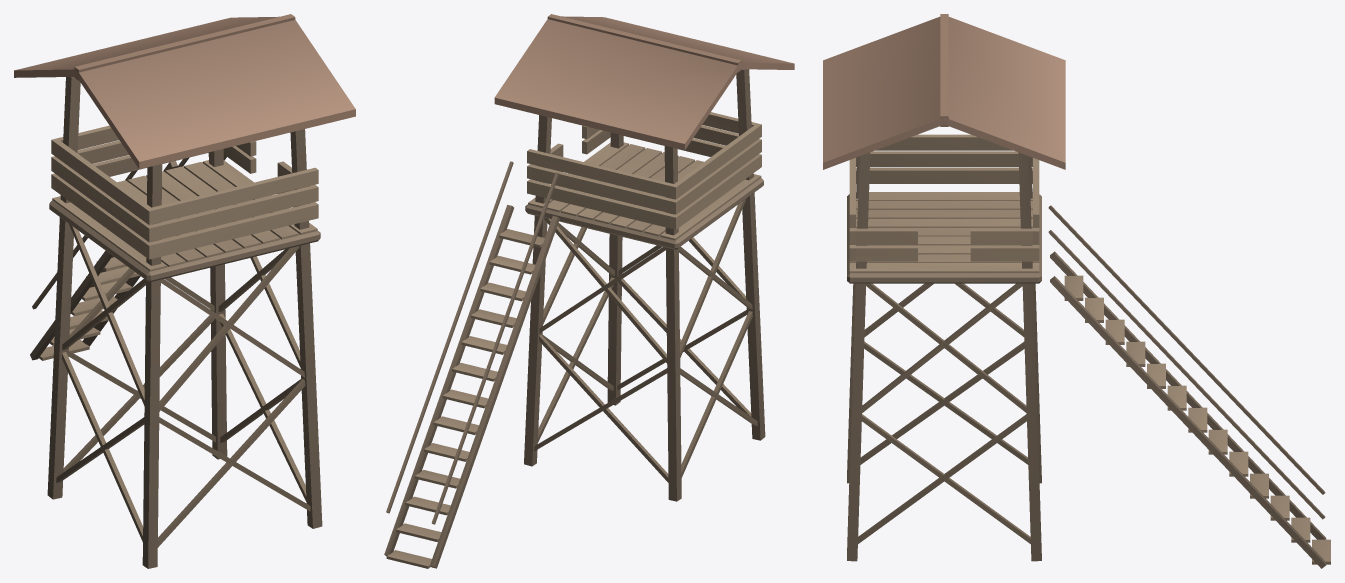
The model's file is mil_watchtower.glb.
The picture shows the model from 3 angles, left to right: view 1: azimuth 30°, elevation 25°; view 2: azimuth 150°, elevation 25°; view 3: azimuth 270°, elevation 25°; orthographic projection. The views are drawn at different scales.
Visible parts, largest first — view 1: mil_watchtower; view 2: mil_watchtower; view 3: mil_watchtower.
Part boxes in pixels (x1=…): mil_watchtower: x1=14, y1=14, x2=355, y2=568; mil_watchtower: x1=384, y1=14, x2=794, y2=568; mil_watchtower: x1=823, y1=14, x2=1330, y2=568.
Bounding box in the file's own units: 4.6 × 9.56 × 9.63.
